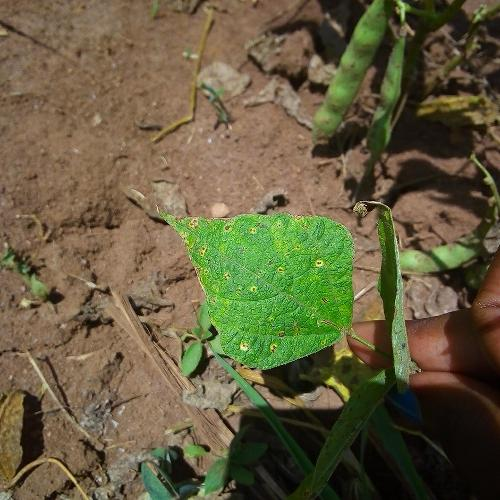hawar: (171, 196, 380, 379)
